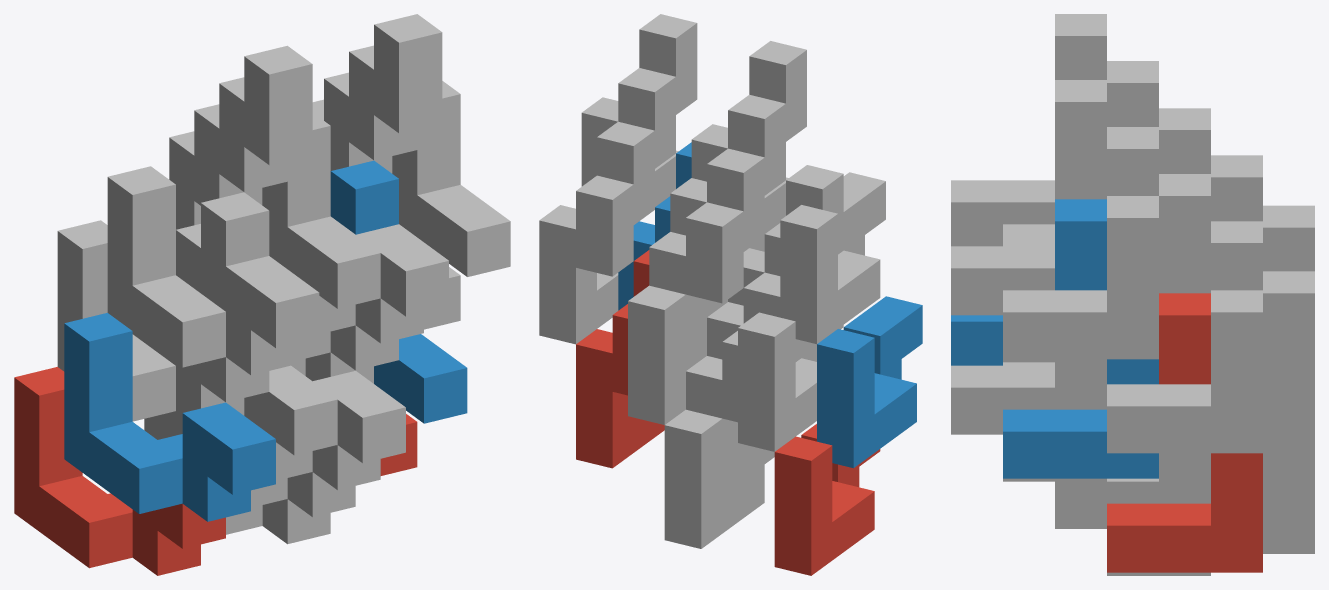
File: tiling.obj
The picture shows the model from 3 angles, left to right: view 1: azimuth 30°, elevation 25°; view 2: azimuth 150°, elevation 25°; view 3: azimuth 270°, elevation 25°; orthographic projection. The views are drawn at different scales.
Parts seen in each view (by area): view 1: copy_1_domain_2, copy_1_domain_4, copy_2_domain_4, copy_2_domain_8, copy_1_domain_1, copy_2_domain_2, copy_1_domain_3, copy_2_domain_6, copy_1_domain_8, copy_1_domain_6, copy_2_domain_3, copy_1_domain_5 (+4 smaller); view 2: copy_2_domain_7, copy_1_domain_2, copy_1_domain_4, copy_2_domain_3, copy_1_domain_1, copy_2_domain_8, copy_2_domain_4, copy_1_domain_5, copy_1_domain_3, copy_2_domain_5, copy_1_domain_7, copy_2_domain_1 (+4 smaller); view 3: copy_2_domain_7, copy_2_domain_8, copy_2_domain_5, copy_2_domain_6, copy_1_domain_7, copy_1_domain_5, copy_2_domain_4, copy_2_domain_3, copy_1_domain_6, copy_1_domain_8, copy_1_domain_4, copy_1_domain_3 (+2 smaller).
Part boxes in pixels (box(x1,y1,x2,y2)): copy_1_domain_2: box(64, 313, 275, 521); copy_1_domain_4: box(107, 166, 319, 375); copy_2_domain_4: box(219, 45, 380, 308); copy_2_domain_8: box(349, 14, 510, 276); copy_1_domain_1: box(14, 367, 225, 575); copy_2_domain_2: box(176, 192, 337, 455); copy_1_domain_3: box(57, 220, 269, 421); copy_2_domain_6: box(330, 160, 467, 423); copy_1_domain_8: box(262, 188, 448, 343); copy_1_domain_6: box(276, 370, 405, 490); copy_2_domain_3: box(169, 104, 330, 361); copy_1_domain_5: box(144, 413, 355, 544); copy_2_domain_7: box(539, 121, 654, 344); copy_1_domain_2: box(817, 296, 922, 468); copy_1_domain_4: box(780, 172, 885, 344); copy_2_domain_3: box(649, 148, 764, 370); copy_1_domain_1: box(774, 424, 880, 575); copy_2_domain_8: box(581, 14, 697, 224); copy_2_domain_4: box(691, 41, 806, 251); copy_1_domain_5: box(664, 409, 764, 548); copy_1_domain_3: box(738, 312, 843, 451); copy_2_domain_5: box(576, 250, 664, 468); copy_1_domain_7: box(628, 285, 685, 424); copy_2_domain_1: box(686, 272, 801, 494); copy_2_domain_7: box(1107, 174, 1262, 453); copy_2_domain_8: box(1003, 80, 1158, 359); copy_2_domain_5: box(1107, 293, 1262, 572); copy_2_domain_6: box(1003, 199, 1158, 478); copy_1_domain_7: box(1055, 271, 1314, 456); copy_1_domain_5: box(1055, 434, 1314, 575); copy_2_domain_4: box(1003, 14, 1158, 246); copy_2_domain_3: box(1159, 108, 1262, 221); copy_1_domain_6: box(951, 365, 1210, 481); copy_1_domain_8: box(951, 246, 1210, 362); copy_1_domain_4: box(951, 180, 1054, 246); copy_1_domain_3: box(1263, 205, 1314, 271).
Bounding box in the file's own units: 8 × 11 × 7.
